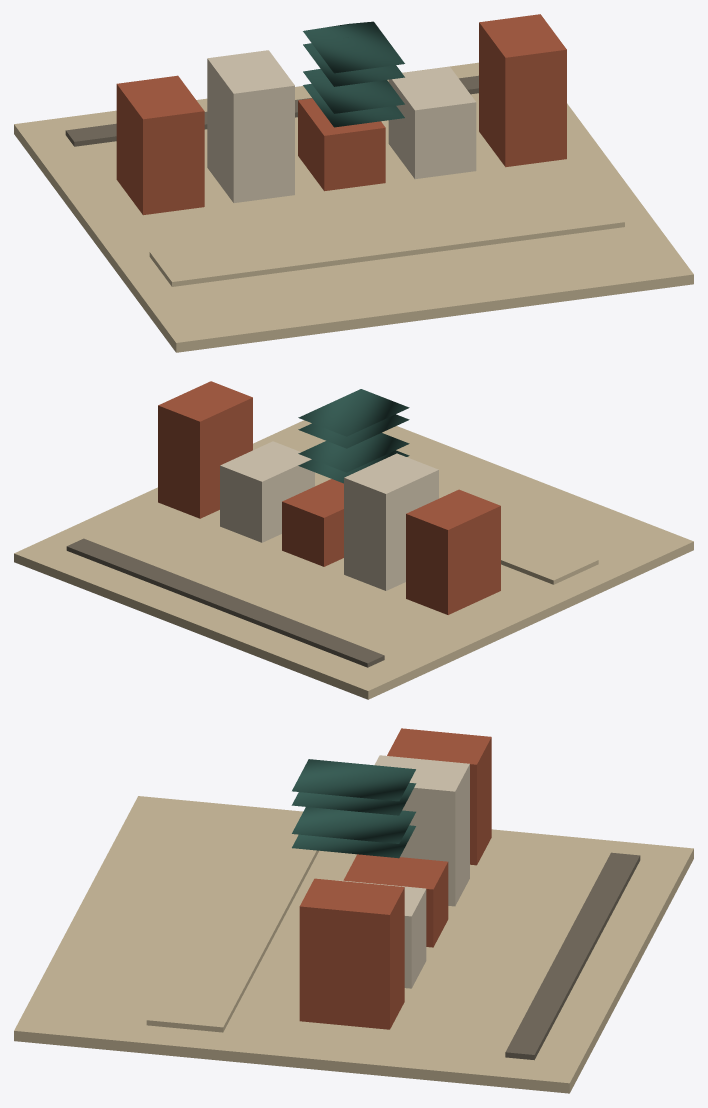
The model's file is model-medium.glb.
The picture shows the model from 3 angles, top to bottom: view 1: azimuth 30°, elevation 25°; view 2: azimuth 150°, elevation 25°; view 3: azimuth 270°, elevation 25°; orthographic projection. The views are drawn at different scales.
Parts seen in each view (by area): view 1: context_site_plinth, street_public_axis, street_facade_1, street_facade_4, street_facade_0, street_facade_3, street_facade_2, street_roof_1, street_roof_3, street_roof_2, street_roof_0, front_scale_strip; view 2: context_site_plinth, street_facade_0, street_facade_4, street_facade_1, street_facade_3, front_scale_strip, street_facade_2, street_public_axis, street_roof_1, street_roof_3, street_roof_0, street_roof_2; view 3: context_site_plinth, street_public_axis, street_facade_4, street_facade_1, front_scale_strip, street_facade_0, street_facade_2, street_roof_1, street_roof_3, street_facade_3, street_roof_0, street_roof_2.
Boxes of the visible parts, x1,y1,x2,y2 form: context_site_plinth: (14,62,693,352); street_public_axis: (149,192,624,286); street_facade_1: (207,50,294,202); street_facade_4: (479,14,566,167); street_facade_0: (116,75,204,215); street_facade_3: (388,66,476,179); street_facade_2: (298,98,385,191); street_roof_1: (303,21,404,73); street_roof_3: (303,69,404,113); street_roof_2: (303,83,404,127); street_roof_0: (303,37,404,86); front_scale_strip: (65,75,478,146); context_site_plinth: (14,420,693,699); street_facade_0: (406,489,500,614); street_facade_4: (158,381,252,518); street_facade_1: (344,453,438,590); street_facade_3: (220,441,314,542); front_scale_strip: (66,538,384,667); street_facade_2: (282,479,343,566); street_public_axis: (280,439,598,584); street_roof_1: (298,389,409,436); street_roof_3: (298,432,409,472); street_roof_0: (298,414,409,448); street_roof_2: (298,450,409,483); context_site_plinth: (14,796,693,1093); street_public_axis: (146,814,318,1032); street_facade_4: (299,878,404,1029); street_facade_1: (374,755,469,906); front_scale_strip: (505,852,640,1060); street_facade_0: (387,728,491,865); street_facade_2: (343,854,448,947); street_roof_1: (292,759,415,801); street_roof_3: (292,807,415,843); street_facade_3: (336,880,426,988); street_roof_0: (291,782,416,815); street_roof_2: (292,825,415,858).
Size of the model in its own units: 9.55 by 2.89 by 9.55.
